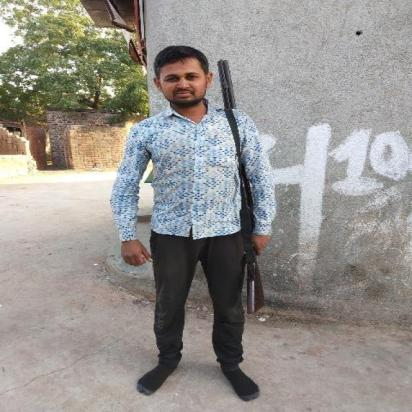Gun: (214, 58, 268, 318)
